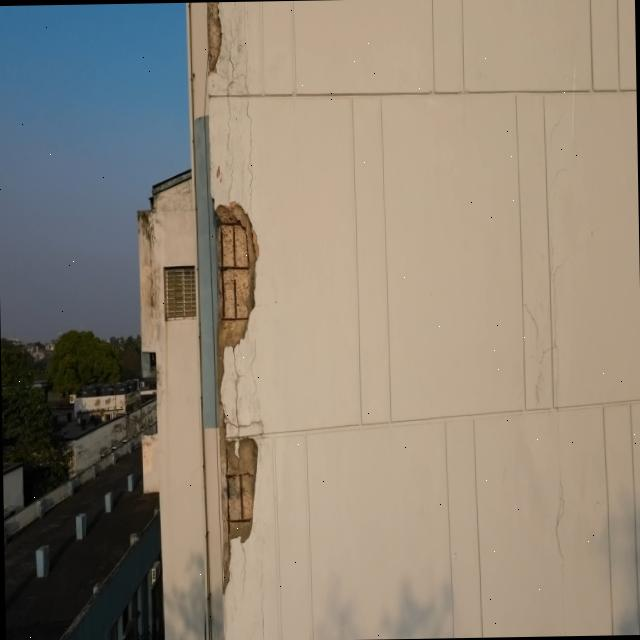crack: (545, 149, 566, 408), (235, 337, 273, 433), (222, 97, 252, 207), (523, 297, 550, 408), (237, 537, 264, 640), (555, 465, 566, 567)
spalling: (214, 201, 258, 592), (207, 2, 245, 92)
stain_mould: (138, 210, 162, 351)
